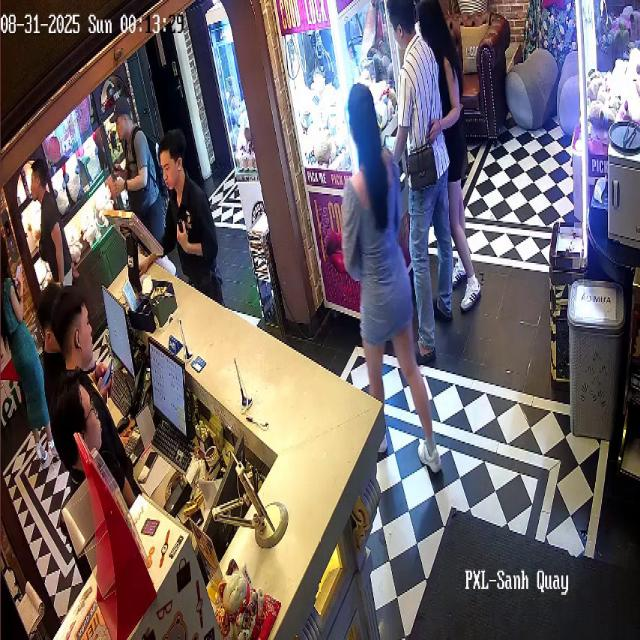khach: (344, 90, 442, 478), (382, 6, 456, 358), (440, 1, 484, 323), (0, 220, 43, 461), (25, 162, 74, 285)
nhan vien: (158, 124, 219, 304), (56, 367, 107, 505), (110, 99, 158, 245), (56, 289, 104, 396), (34, 271, 64, 429)
